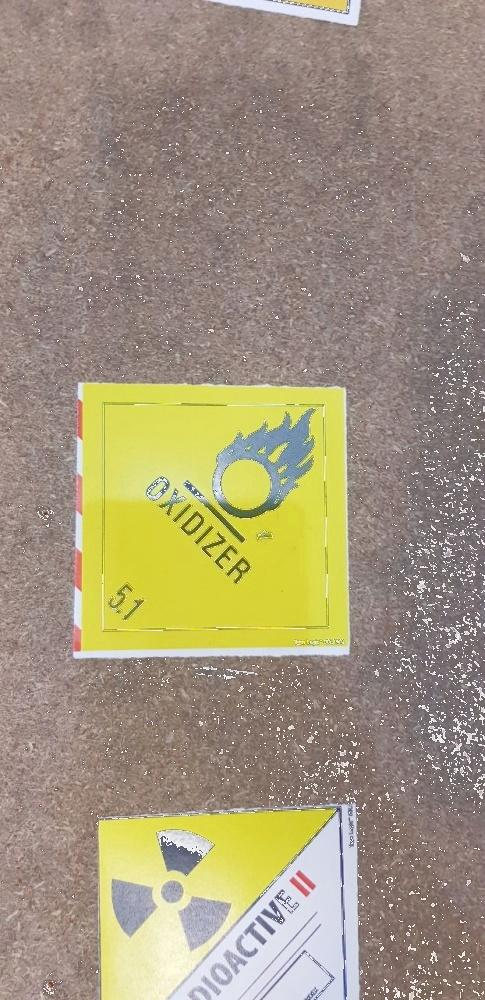oxidizer: (80, 384, 351, 646)
radioactive: (97, 804, 346, 1000)
